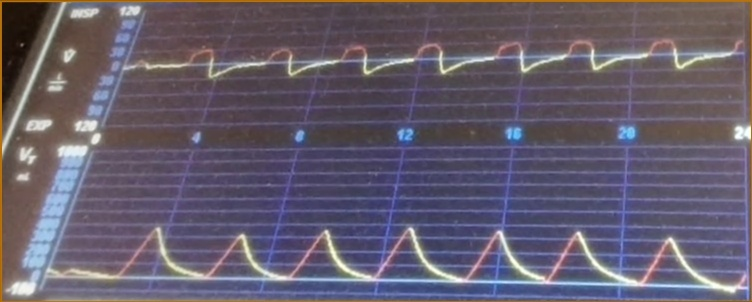Ineffective_effort Flow: (132, 15, 742, 110)
Ineffective_effort Volume: (56, 206, 748, 294)
